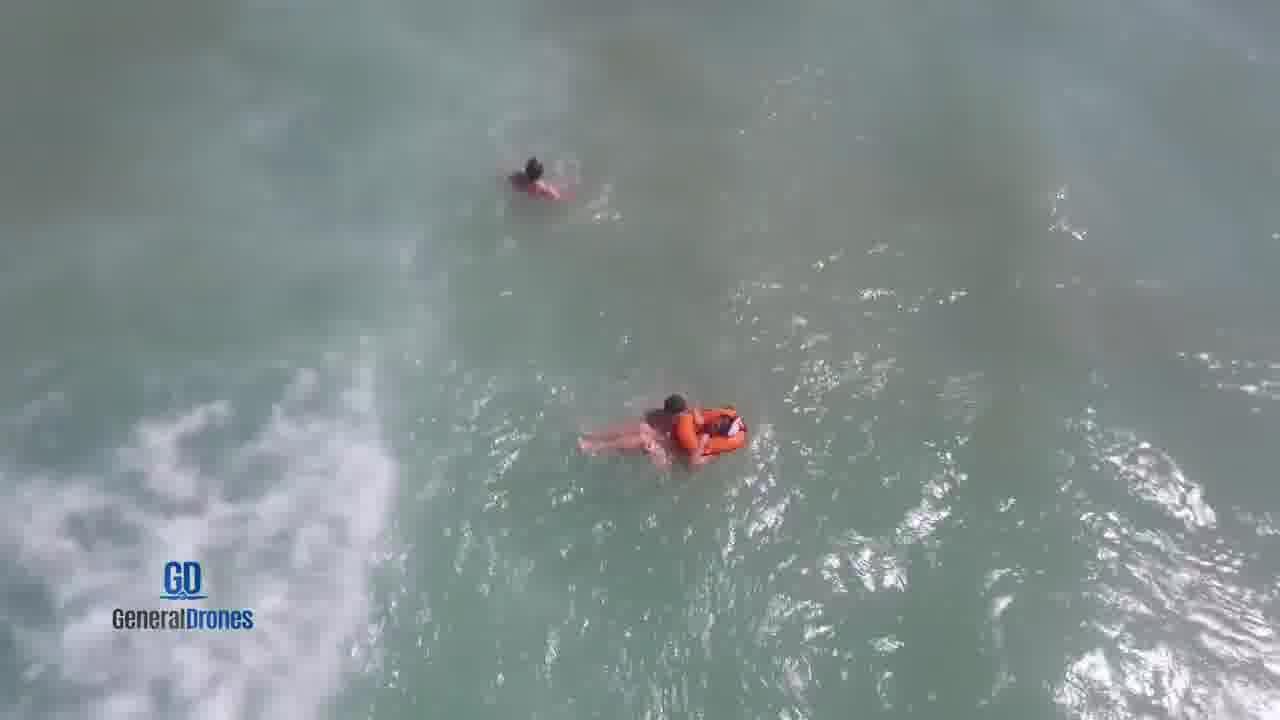swimmer: (581, 411, 750, 464), (495, 157, 565, 204), (641, 393, 710, 423)
